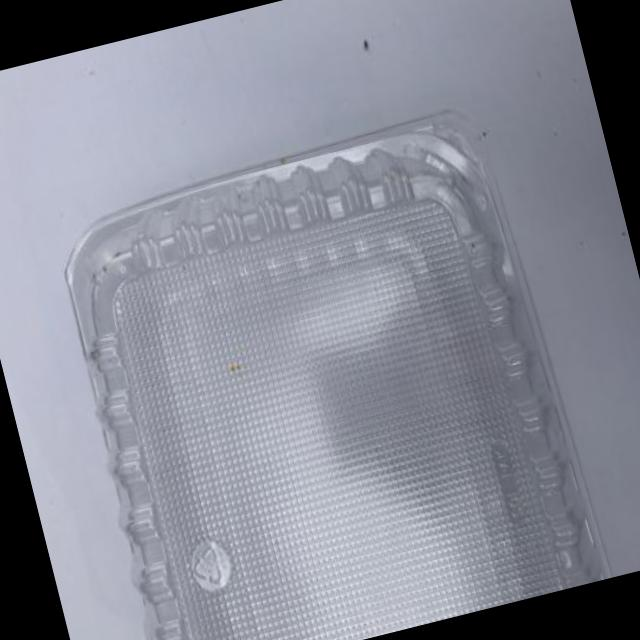Trash: (43, 102, 613, 640)
